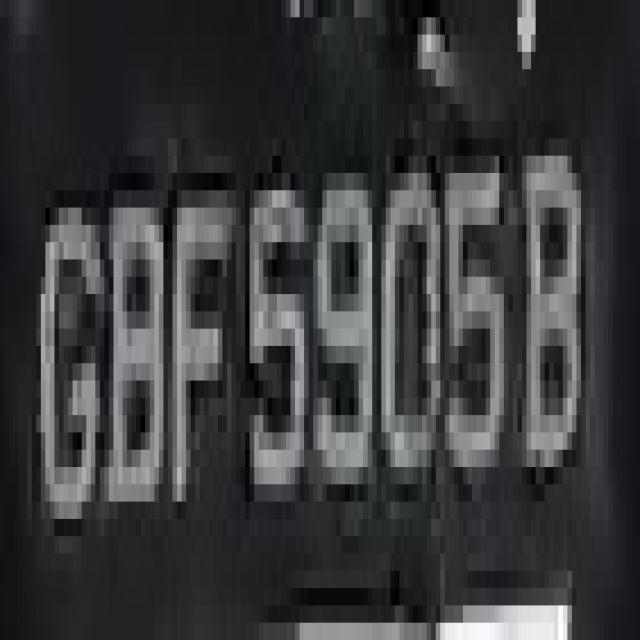0: (372, 104, 445, 519)
5: (241, 104, 313, 519), (441, 104, 508, 467)
9: (313, 121, 363, 536)
B: (513, 121, 581, 536), (104, 173, 168, 553)
F: (168, 121, 227, 502)
G: (27, 173, 109, 536)
